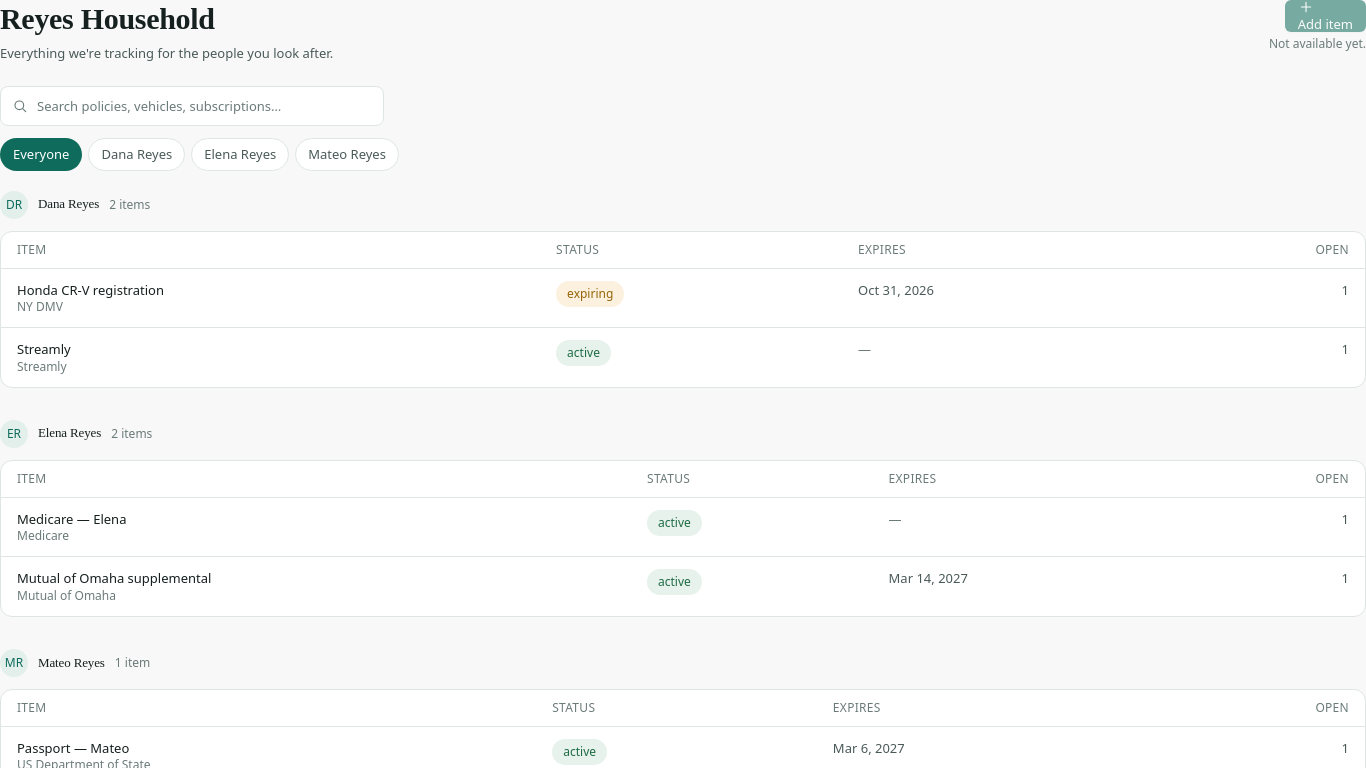
Test case: P0-10 Test C · the masked value and surrounding detail are unaffected › renders no Identifiers section for an item with no secrets
Step 1. Click the 1st text "Streamly" → coordinates (44, 349), box [17,340,71,358]
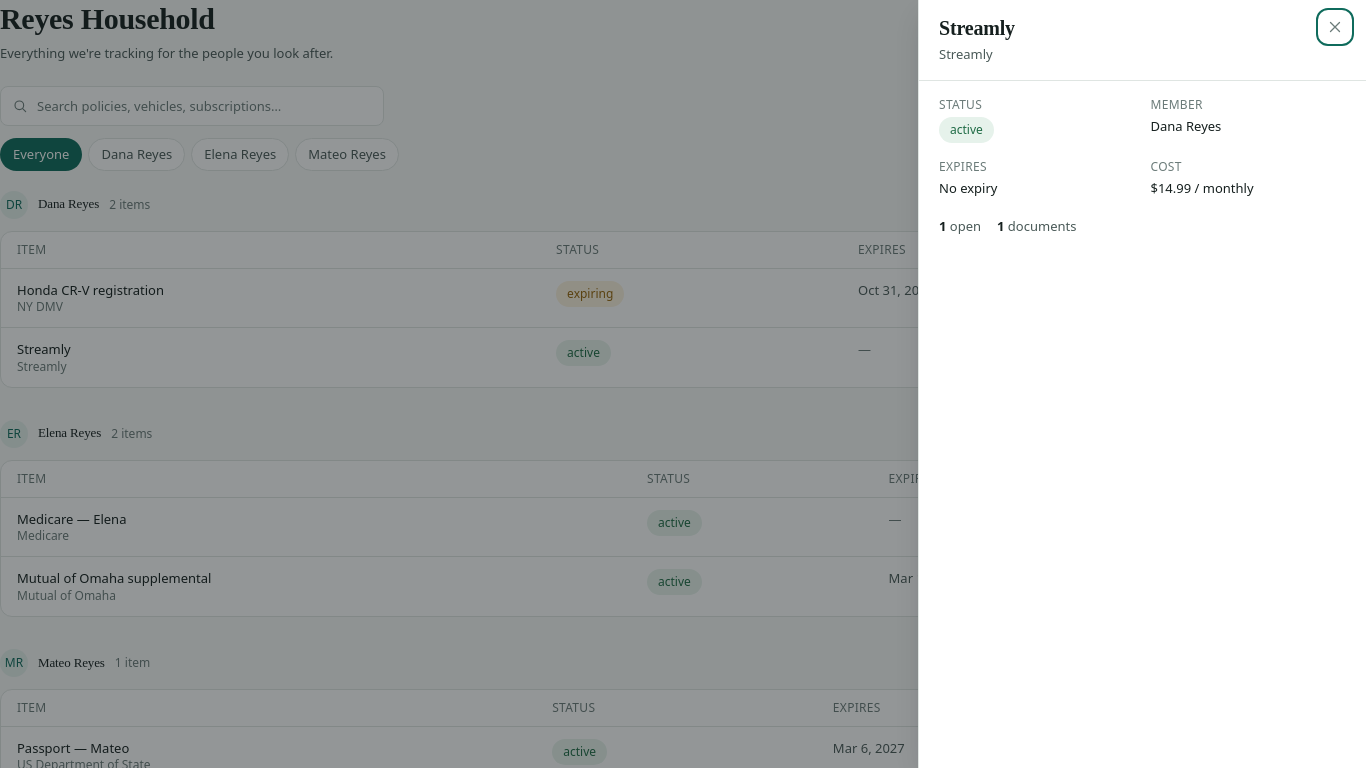
Now the dialog is shown, box [918,0,1365,767]
